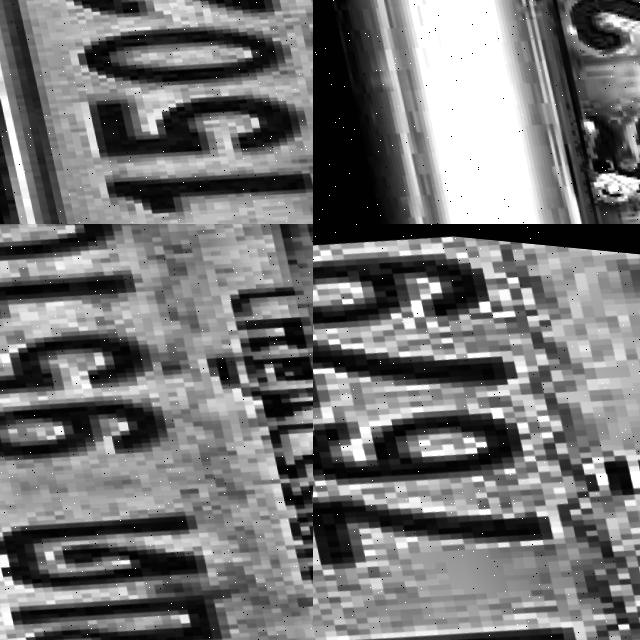license-plate: (313, 224, 640, 640), (0, 224, 313, 640), (0, 0, 313, 224), (433, 0, 640, 224)
